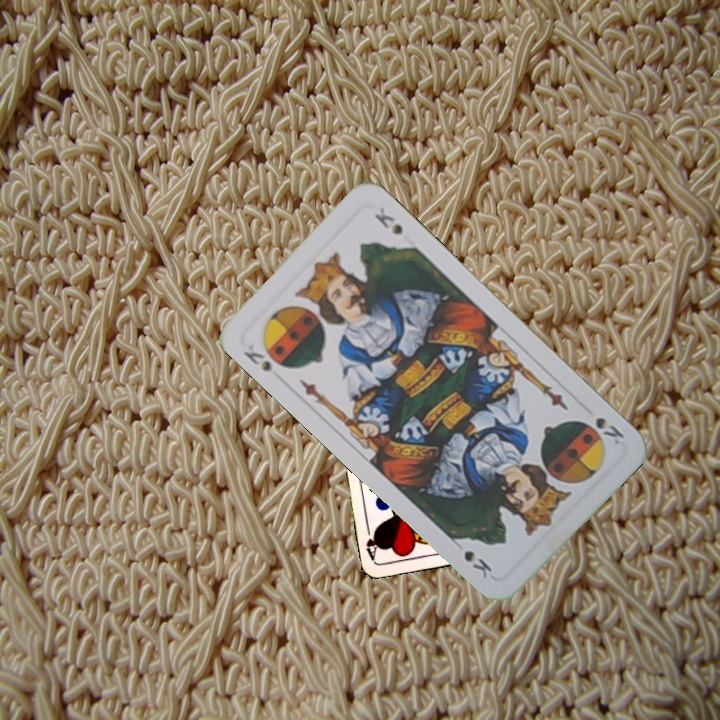SK: (239, 340, 276, 375), (591, 413, 627, 448)
